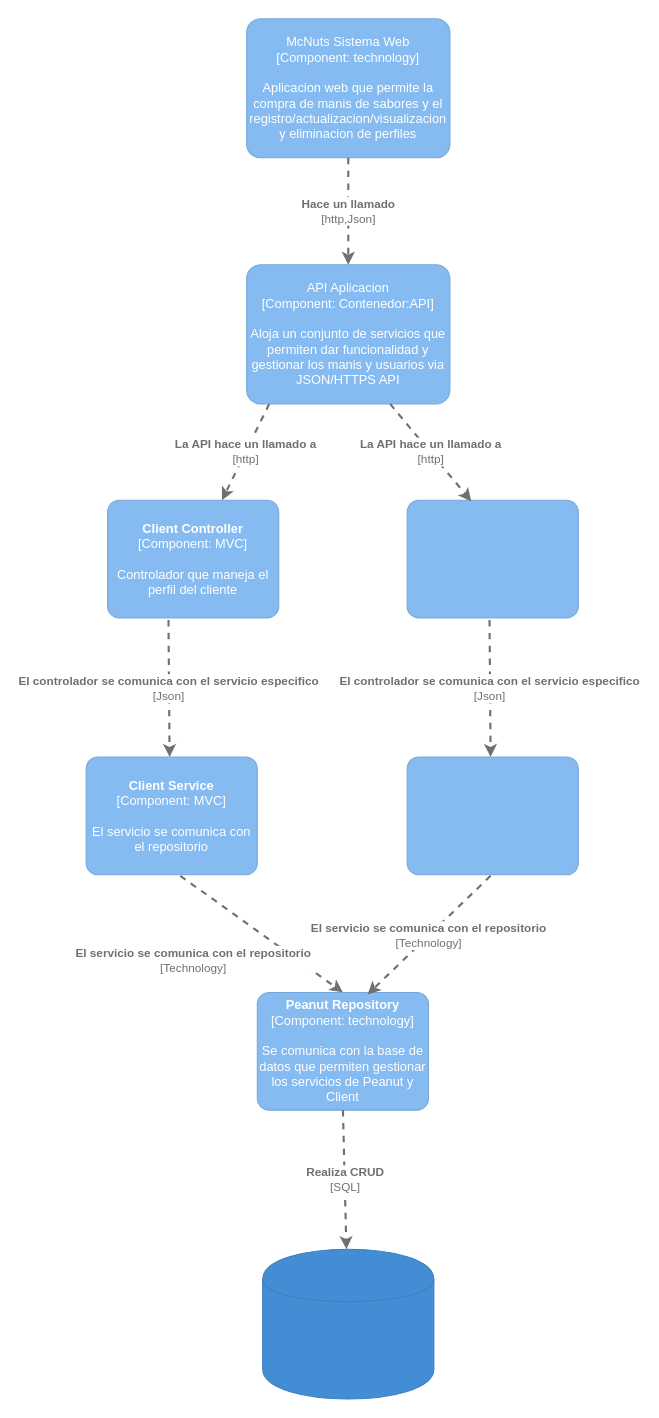
Some shapes in this 659 by 1418 pixel diagram are drawn without their labels. The shapes that lost their labels are listed below. From the top down, each one's centre as x and y in pixels, then its label:
At point 492,558: "Peanut Controller [Component: MVC] Controlador que maneja el perfil del mani".
At point 492,815: "Peanut Service [Component: MVC] El servicio se comunica con el repositorio".
At point 348,1323: "Database [Container: SQL] Almacena los datos de Peanuts y Clients".
